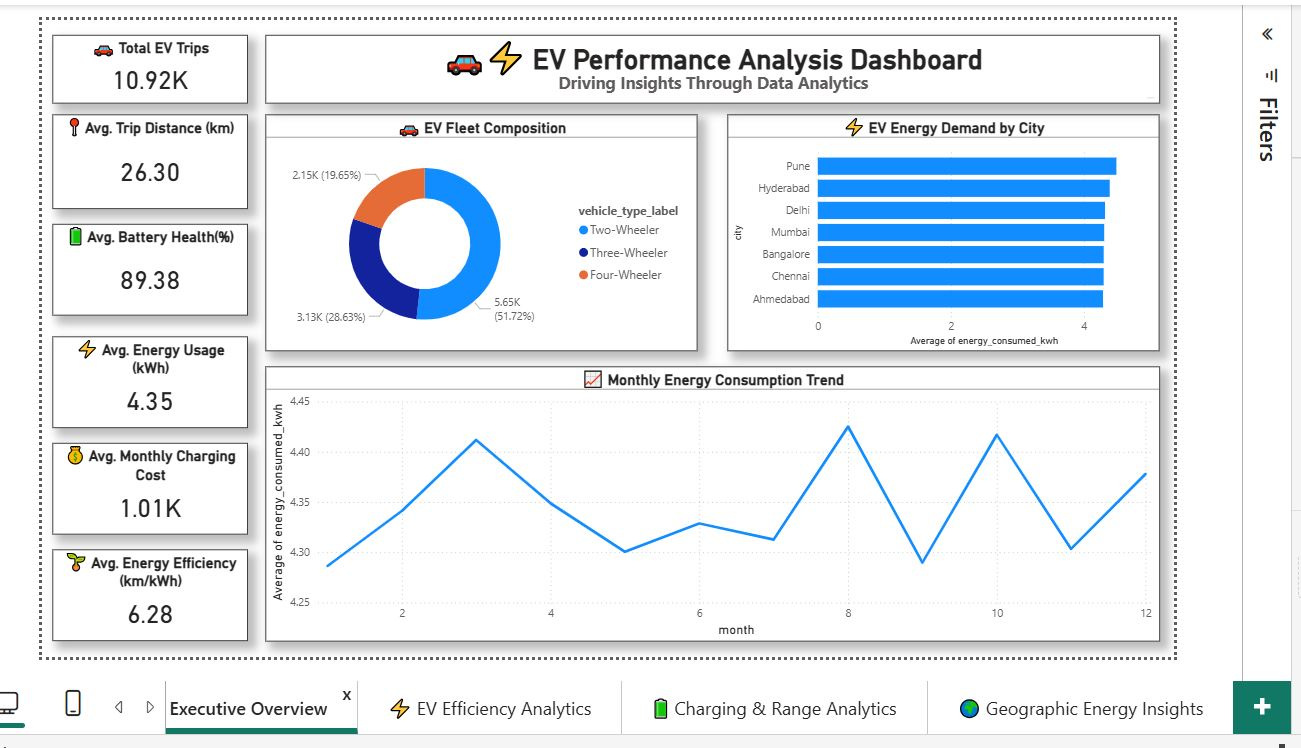

Layout of this report page (visuals, bound fields, positions):
{"tool":"powerbi","page":{"name":"📊 Executive Overview","canvas":[1280,720],"ordinal":0},"visuals":[{"type":"donutChart","title":"🚗 EV Fleet Composition","fields":{"Category":["ev_final_dashboard_dataset.vehicle_type_label"],"Y":["CountNonNull(ev_final_dashboard_dataset.vehicle_type)"]},"box":[251.7,106.9,487.9,267.2],"z":0},{"type":"clusteredBarChart","title":"⚡ EV Energy Demand by City","fields":{"Y":["Avg(ev_final_dashboard_dataset.energy_consumed_kwh)"],"Category":["ev_final_dashboard_dataset.city"]},"box":[774.1,106.9,487.9,267.2],"z":1000},{"type":"lineChart","title":"📈 Monthly Energy Consumption Trend","fields":{"Y":["Avg(ev_final_dashboard_dataset.energy_consumed_kwh)"],"Category":["ev_final_dashboard_dataset.month"]},"box":[251.7,391.4,1010.3,310.3],"z":2000},{"type":"card","title":"🔋 Avg. Battery Health(%)","fields":{"Values":["Avg(ev_final_dashboard_dataset.battery_health_pct)"]},"box":[12.1,231,220.7,103.4],"z":3000},{"type":"card","title":"🚗 Total EV Trips","fields":{"Values":["CountNonNull(ev_final_dashboard_dataset.user_id)"]},"box":[12.1,17.2,220.7,77.6],"z":4000},{"type":"card","title":"📍 Avg. Trip Distance (km)","fields":{"Values":["Avg(ev_final_dashboard_dataset.distance_km)"]},"box":[12.1,106.9,220.7,106.9],"z":5000},{"type":"card","title":"⚡ Avg. Energy Usage (kWh)","fields":{"Values":["Avg(ev_final_dashboard_dataset.energy_consumed_kwh)"]},"box":[12.1,356.9,220.7,103.4],"z":6000},{"type":"card","title":"💰 Avg. Monthly Charging Cost","fields":{"Values":["Avg(ev_final_dashboard_dataset.monthly_energy_cost)"]},"box":[12.1,477.6,220.7,103.4],"z":7000},{"type":"card","title":"🌱 Avg. Energy Efficiency (km/kWh)","fields":{"Values":["Avg(ev_final_dashboard_dataset.km_per_kwh)"]},"box":[12.1,598.3,220.7,103.4],"z":8000},{"type":"textbox","title":"        🚗⚡ EV Performance Analysis Dashboard","box":[251.7,17.2,1010.3,77.6],"z":9000}]}

Visuals, with their boxes on the page's 1280x720 design canvas (x1, y1, x2, y2). These are canvas units, not pixel positions in the 1301x748 screenshot, which may show the page scaled, cropped or inside an application window:
"🚗 EV Fleet Composition" donutChart: <region>252, 107, 740, 374</region>
"⚡ EV Energy Demand by City" clusteredBarChart: <region>774, 107, 1262, 374</region>
"📈 Monthly Energy Consumption Trend" lineChart: <region>252, 391, 1262, 702</region>
"🔋 Avg. Battery Health(%)" card: <region>12, 231, 233, 334</region>
"🚗 Total EV Trips" card: <region>12, 17, 233, 95</region>
"📍 Avg. Trip Distance (km)" card: <region>12, 107, 233, 214</region>
"⚡ Avg. Energy Usage (kWh)" card: <region>12, 357, 233, 460</region>
"💰 Avg. Monthly Charging Cost" card: <region>12, 478, 233, 581</region>
"🌱 Avg. Energy Efficiency (km/kWh)" card: <region>12, 598, 233, 702</region>
"        🚗⚡ EV Performance Analysis Dashboard" textbox: <region>252, 17, 1262, 95</region>
